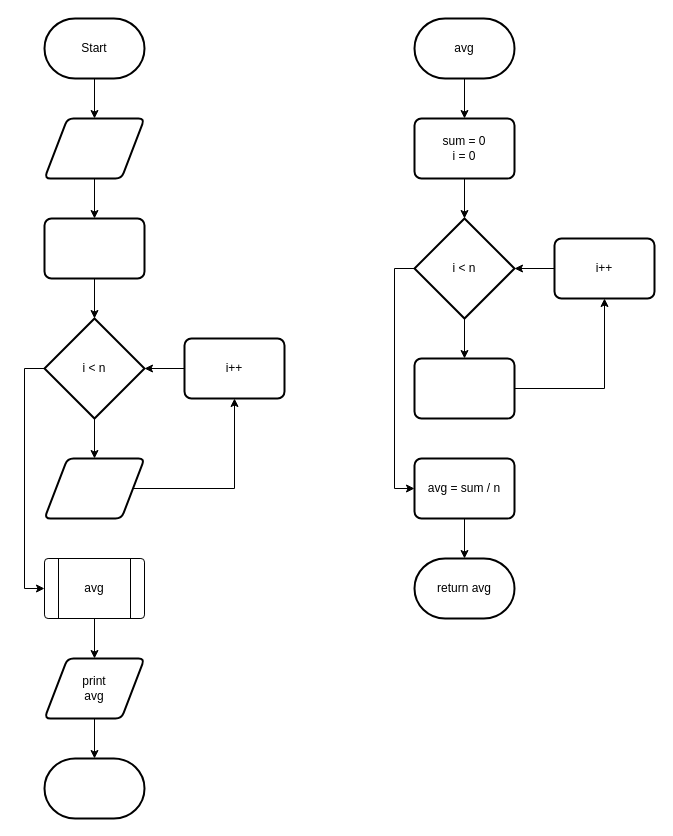
The diagram is 673 pixels wide and 836 high, and some of its shapes have lost their labels. Each missing label, with the centre of its shape:
"End" goes at point (94, 788).
"i = 0" goes at point (94, 248).
"input arr[i]" goes at point (94, 488).
"input n" goes at point (94, 148).
"sum += arr[i]" goes at point (464, 388).
